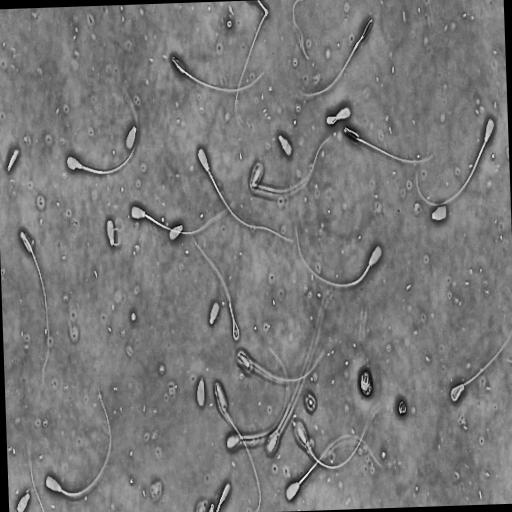coiled-tail: (450, 328, 512, 401), (111, 228, 120, 246), (338, 107, 350, 118), (326, 114, 339, 124)
dirt-particles: (359, 367, 374, 399), (396, 398, 408, 418), (129, 309, 136, 322), (226, 17, 233, 29)
folded-tail: (216, 385, 260, 510), (20, 232, 49, 382), (171, 56, 263, 91)
loose-head: (276, 130, 294, 157), (123, 121, 138, 152), (207, 297, 221, 327), (430, 202, 448, 223), (167, 221, 184, 243), (195, 375, 206, 408), (16, 490, 31, 512)
loose-tail: (191, 236, 241, 344), (28, 431, 46, 512)
normal: (195, 145, 293, 243), (43, 384, 113, 500), (414, 114, 496, 208), (283, 430, 383, 503), (65, 84, 140, 177), (297, 12, 376, 100), (292, 223, 384, 290), (214, 381, 261, 511), (447, 322, 512, 407), (17, 227, 51, 388), (129, 196, 238, 237), (169, 53, 266, 96), (341, 123, 435, 167), (105, 215, 126, 251), (325, 105, 351, 128)
